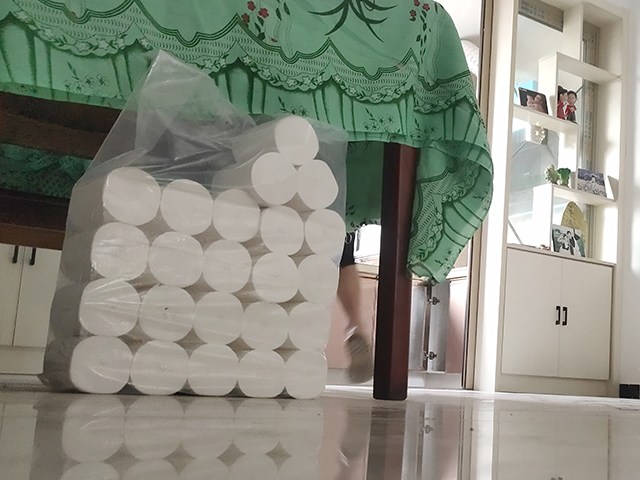cabinet: (490, 243, 630, 400)
table: (1, 1, 427, 402)
